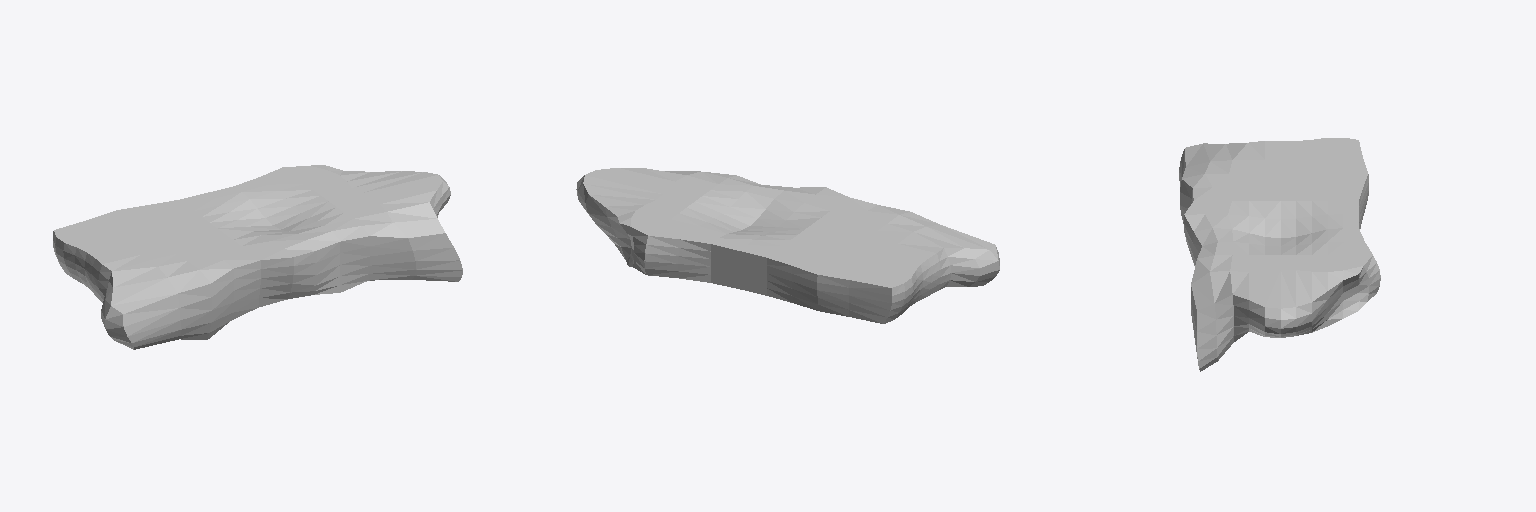
File: GroundOne.obj
3 views of the same model, side by side, from view 1: azimuth 30°, elevation 25°; view 2: azimuth 150°, elevation 25°; view 3: azimuth 270°, elevation 25° (orthographic).
Visible parts, largest first — view 1: GroundOne; view 2: GroundOne; view 3: GroundOne.
Part boxes in pixels (left/top/right/bottom): GroundOne: left=53, top=165, right=462, bottom=349; GroundOne: left=576, top=168, right=999, bottom=323; GroundOne: left=1179, top=138, right=1380, bottom=371.
Bounding box in the file's own units: 6.82 × 1.25 × 3.12.